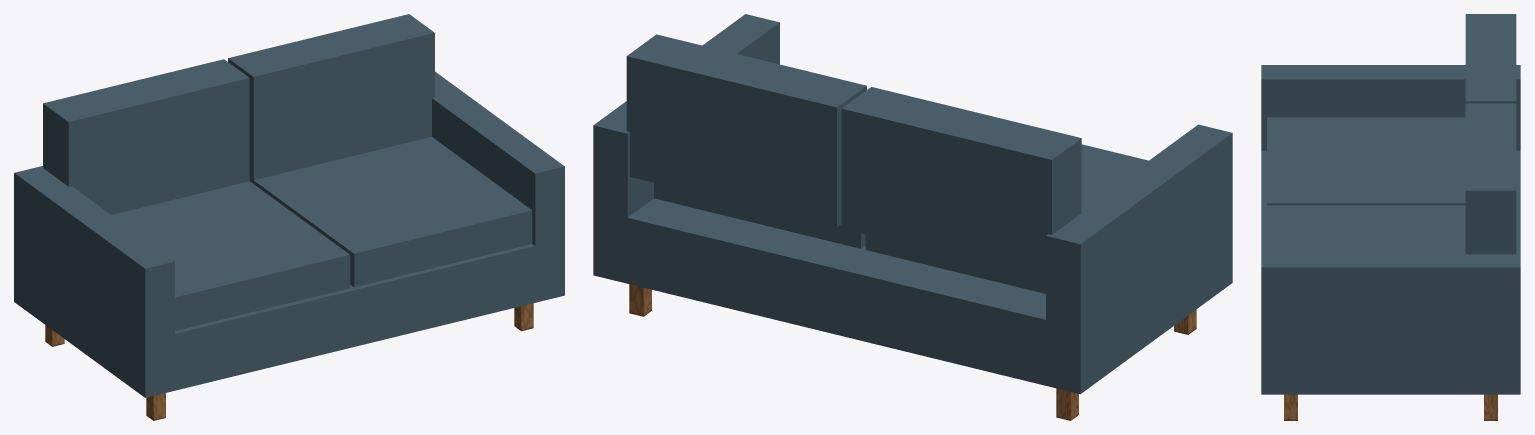
File: Kanape_2_szemelyes.obj
3 renders of one model, left to right at view 1: azimuth 30°, elevation 25°; view 2: azimuth 150°, elevation 25°; view 3: azimuth 270°, elevation 25°, orthographic. The views are drawn at different scales.
Size of the model in its own units: 1.7 by 0.89 by 0.92.
Materials: 2 (1 with a texture image).
